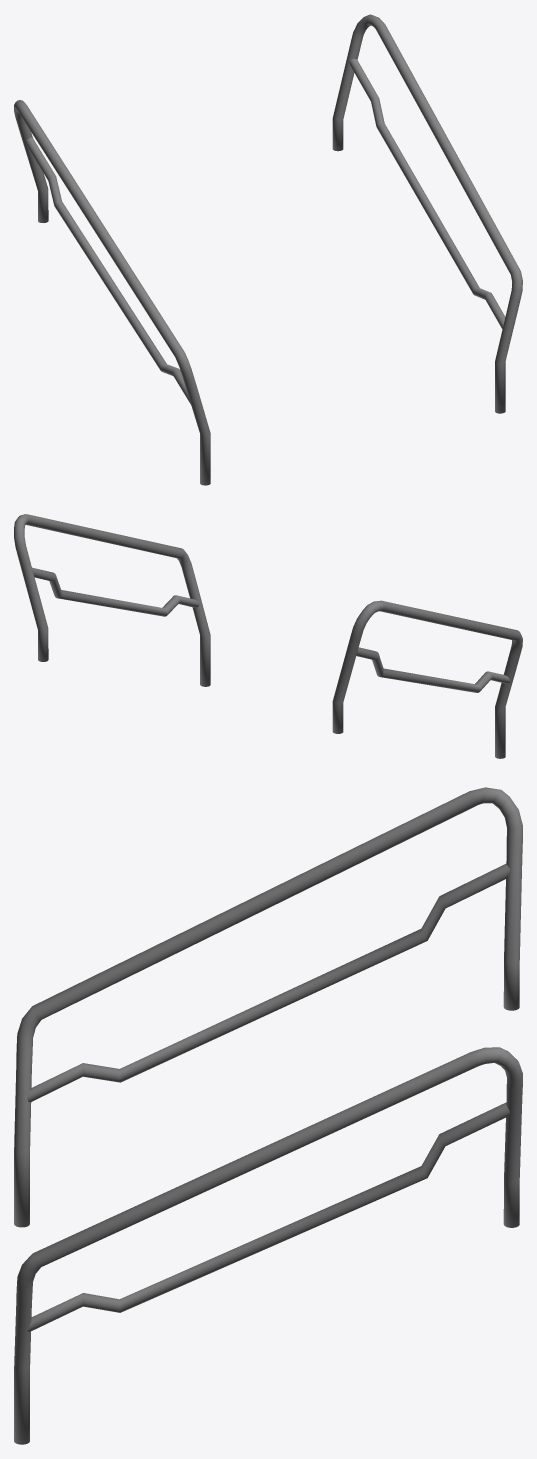
The model's file is q-scifi-mod-platform-rails-2.glb.
The picture shows the model from 3 angles, top to bottom: view 1: azimuth 30°, elevation 25°; view 2: azimuth 150°, elevation 25°; view 3: azimuth 270°, elevation 25°; orthographic projection. The views are drawn at different scales.
Parts seen in each view (by area): view 1: Platform_Rails_2; view 2: Platform_Rails_2; view 3: Platform_Rails_2.
Part boxes in pixels (box(x1,y1,x2,y2)): Platform_Rails_2: box(14, 14, 522, 485); Platform_Rails_2: box(14, 514, 522, 758); Platform_Rails_2: box(14, 787, 522, 1444).
Bounding box in the file's own units: 2.36 × 1.7 × 1.89.
1 material, 1 textured.
